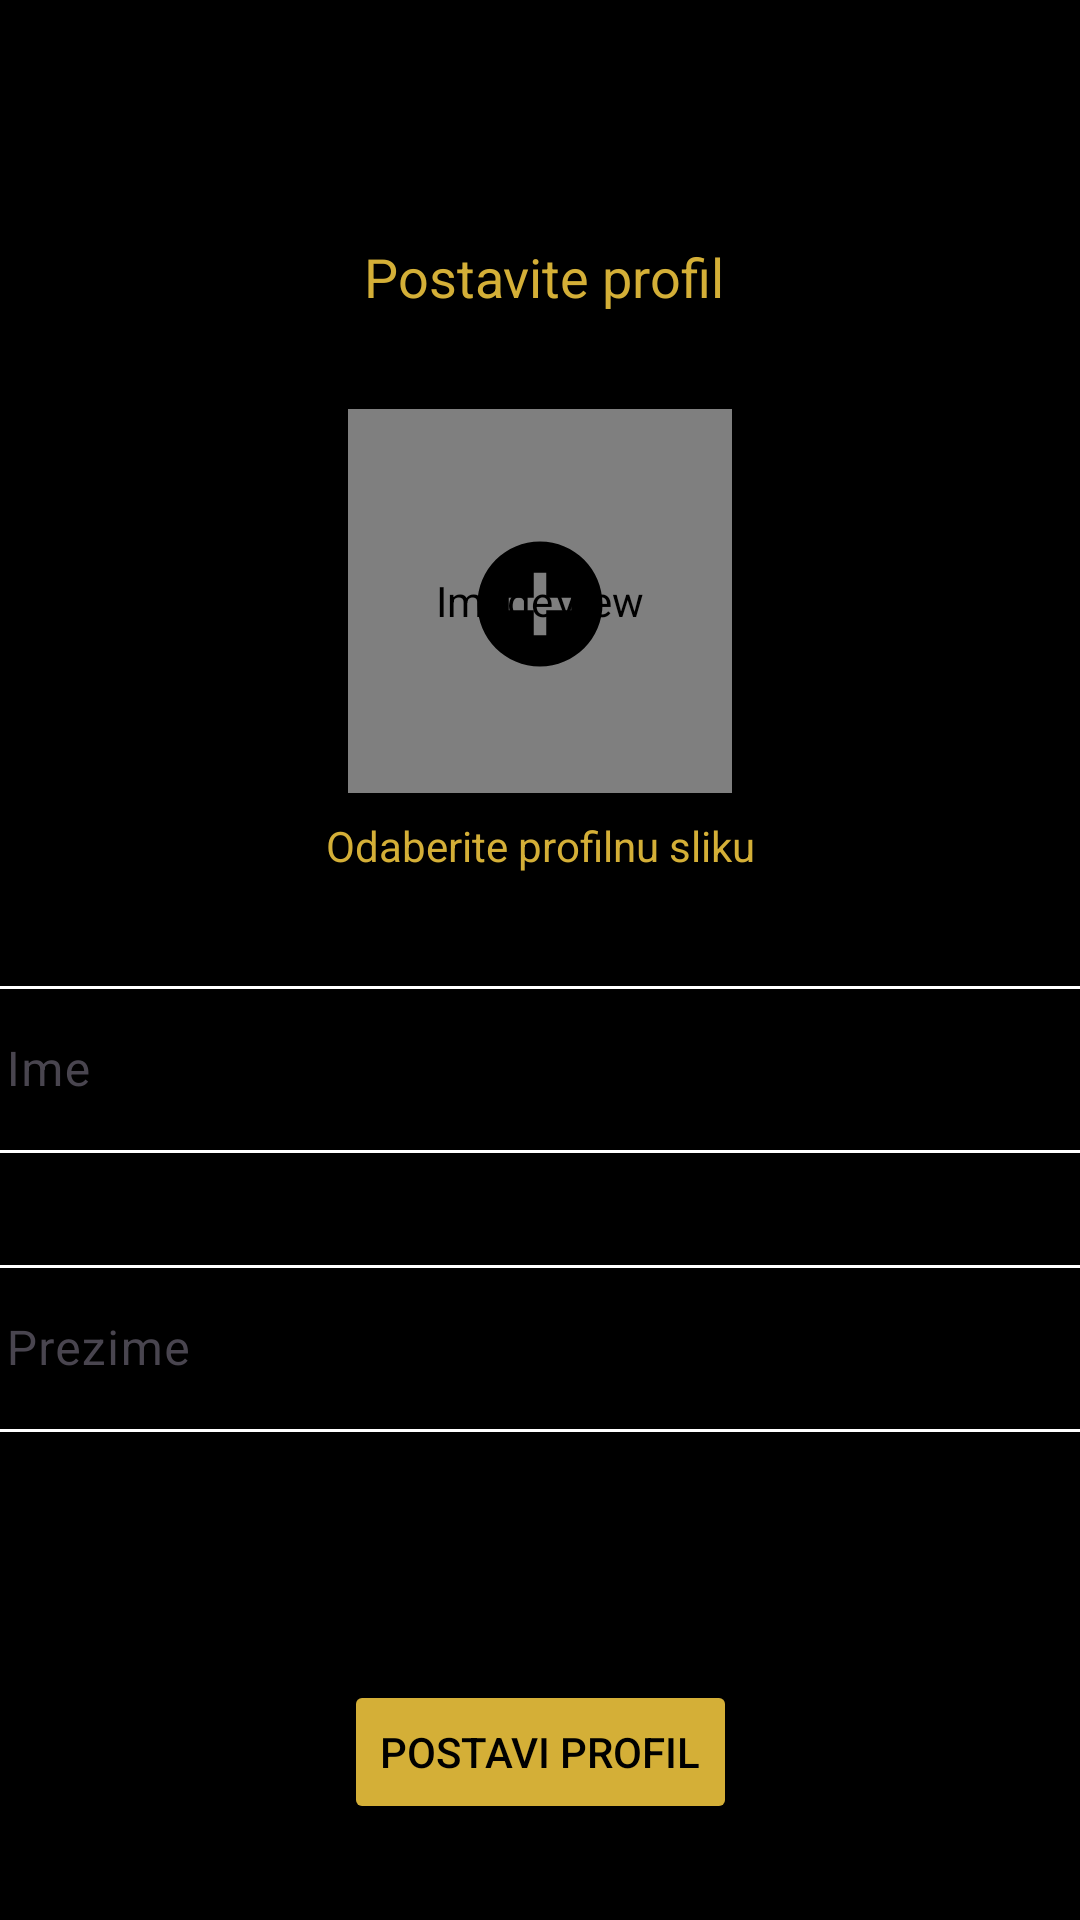

Icon click points for this 1080 x 1920 phone screenshot, format [x,y]:
add circle: [540,604]
